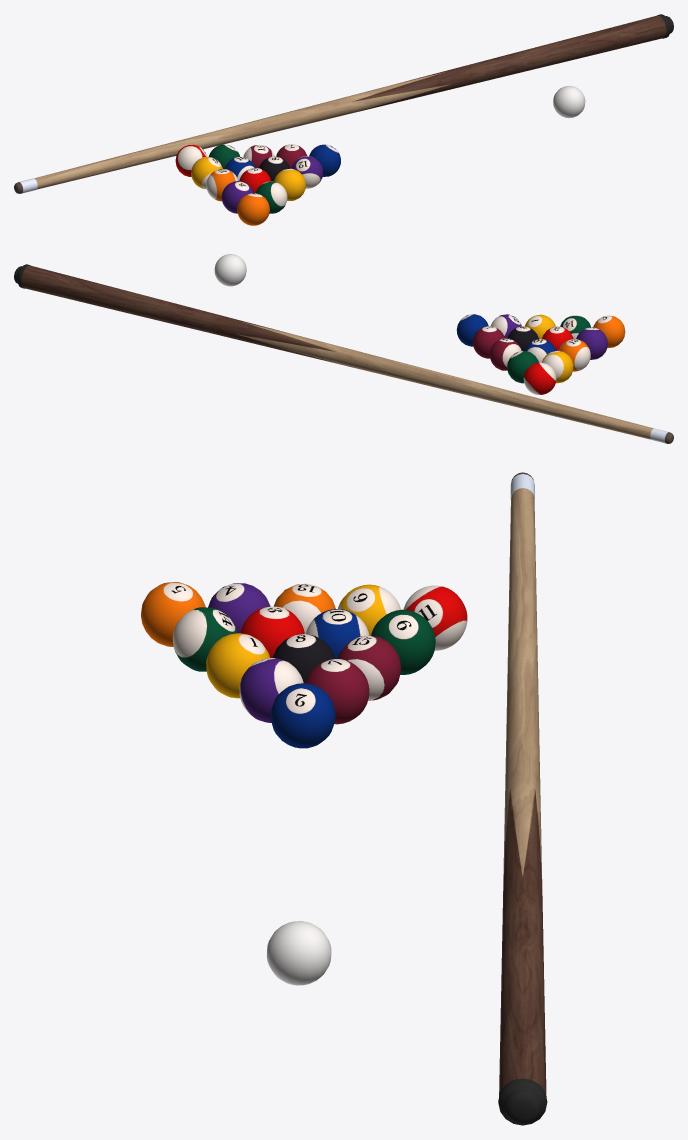
Rendered from cp_bolas_taco.glb.
3 renders of one model, top to bottom at view 1: azimuth 30°, elevation 25°; view 2: azimuth 150°, elevation 25°; view 3: azimuth 270°, elevation 25°, orthographic. The views are drawn at different scales.
Visible parts, largest first — view 1: Pool_Cue, PoolBall_5, PoolBall_White, PoolBall_1, PoolBall_14, PoolBall_12, PoolBall_2, PoolBall_4, PoolBall_13, PoolBall_11, PoolBall_9, PoolBall_3 (+5 smaller); view 2: Pool_Cue, PoolBall_11, PoolBall_White, PoolBall_15, PoolBall_5, PoolBall_13, PoolBall_4, PoolBall_7, PoolBall_9, PoolBall_6, PoolBall_2, PoolBall_8 (+5 smaller); view 3: Pool_Cue, PoolBall_2, PoolBall_White, PoolBall_6, PoolBall_14, PoolBall_7, PoolBall_1, PoolBall_5, PoolBall_12, PoolBall_11, PoolBall_15, PoolBall_3 (+5 smaller).
Part boxes in pixels (left/top/right/bottom): Pool_Cue: left=14, top=14, right=673, bottom=193; PoolBall_5: left=237, top=193, right=269, bottom=225; PoolBall_White: left=553, top=86, right=585, bottom=118; PoolBall_1: left=274, top=168, right=305, bottom=200; PoolBall_14: left=255, top=181, right=287, bottom=213; PoolBall_12: left=291, top=156, right=323, bottom=188; PoolBall_2: left=309, top=144, right=340, bottom=176; PoolBall_4: left=221, top=181, right=253, bottom=213; PoolBall_13: left=206, top=169, right=238, bottom=201; PoolBall_11: left=175, top=144, right=207, bottom=176; PoolBall_9: left=191, top=157, right=222, bottom=189; PoolBall_3: left=239, top=168, right=270, bottom=193; Pool_Cue: left=14, top=264, right=673, bottom=443; PoolBall_11: left=523, top=362, right=556, bottom=394; PoolBall_White: left=214, top=254, right=246, bottom=286; PoolBall_15: left=489, top=338, right=521, bottom=370; PoolBall_5: left=593, top=315, right=625, bottom=347; PoolBall_13: left=559, top=339, right=590, bottom=371; PoolBall_4: left=576, top=327, right=607, bottom=359; PoolBall_7: left=473, top=326, right=504, bottom=358; PoolBall_9: left=542, top=350, right=573, bottom=383; PoolBall_6: left=507, top=351, right=538, bottom=383; PoolBall_2: left=456, top=314, right=488, bottom=346; PoolBall_8: left=507, top=326, right=538, bottom=350; Pool_Cue: left=498, top=472, right=547, bottom=1125; PoolBall_2: left=270, top=683, right=335, bottom=748; PoolBall_White: left=266, top=921, right=331, bottom=985; PoolBall_6: left=371, top=609, right=435, bottom=674; PoolBall_14: left=172, top=607, right=236, bottom=671; PoolBall_7: left=305, top=659, right=369, bottom=724; PoolBall_1: left=206, top=633, right=269, bottom=698; PoolBall_5: left=141, top=582, right=205, bottom=646; PoolBall_12: left=239, top=658, right=303, bottom=722; PoolBall_11: left=403, top=585, right=467, bottom=650; PoolBall_15: left=338, top=635, right=401, bottom=700; PoolBall_3: left=240, top=606, right=304, bottom=657.
Size of the model in its own units: 5.55 by 0.2478 by 1.49.
Materials: 17 (17 with a texture image).
